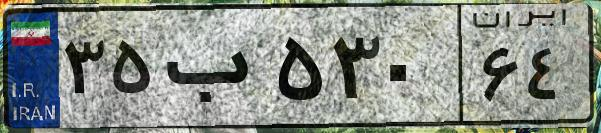0: (385, 28, 445, 110)
3: (330, 28, 385, 110), (57, 26, 110, 100)
4: (525, 38, 570, 115)
5: (270, 28, 330, 110), (110, 28, 158, 98)
6: (475, 38, 525, 113)
ب: (158, 20, 270, 120)
